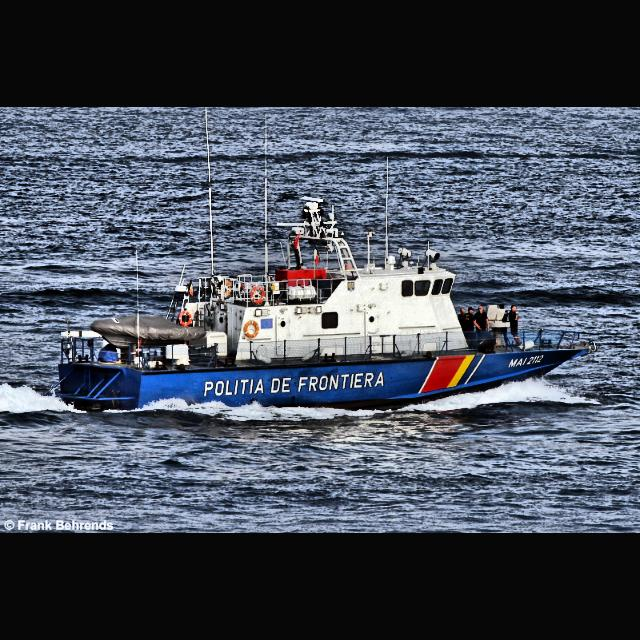patrol_vessel: (47, 192, 599, 420)
